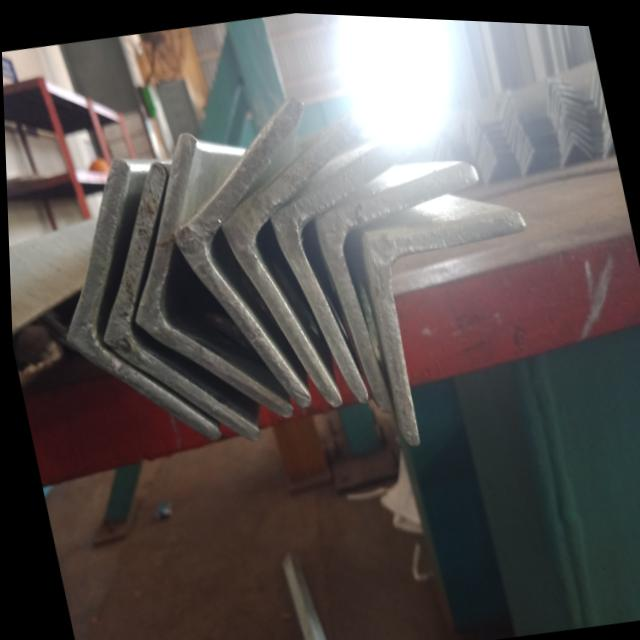metal-angles: (134, 130, 287, 414), (101, 159, 256, 437), (64, 158, 217, 438), (173, 96, 307, 405), (220, 111, 360, 403), (313, 160, 476, 410), (361, 205, 522, 442), (270, 136, 405, 400)
